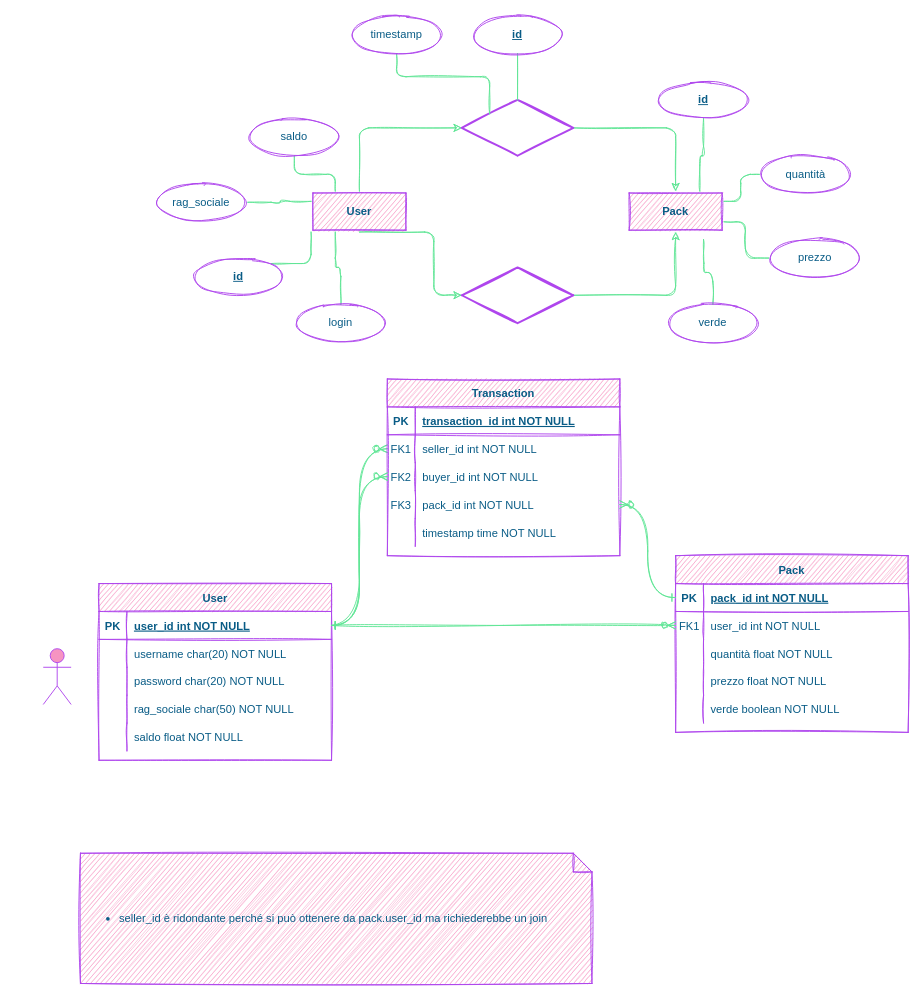
Image size: 924x1000. Some labels were removed from this diagram. The centre of each missing label's shape, as x and y in pixels:
"Compra/Vende" belongs at (517,127).
"Energy Manager" belongs at (56,676).
"Possiede" belongs at (517,295).
